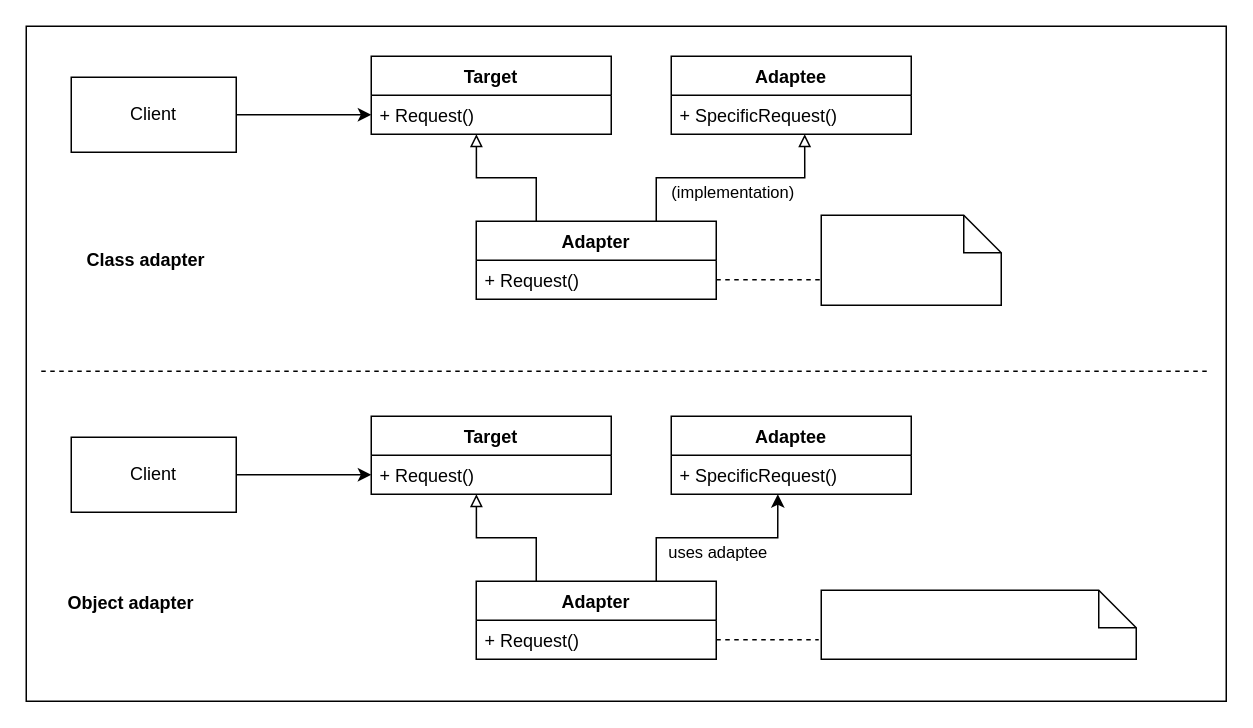
The diagram is 1253 pixels wide and 728 high, and some of its shapes have lost their labels. The centre of each missing label's shape, as x and y in pixels:
"adaptee.SpecificRequest()" goes at point (978, 624).
"SpecificRequest()" goes at point (910, 259).
